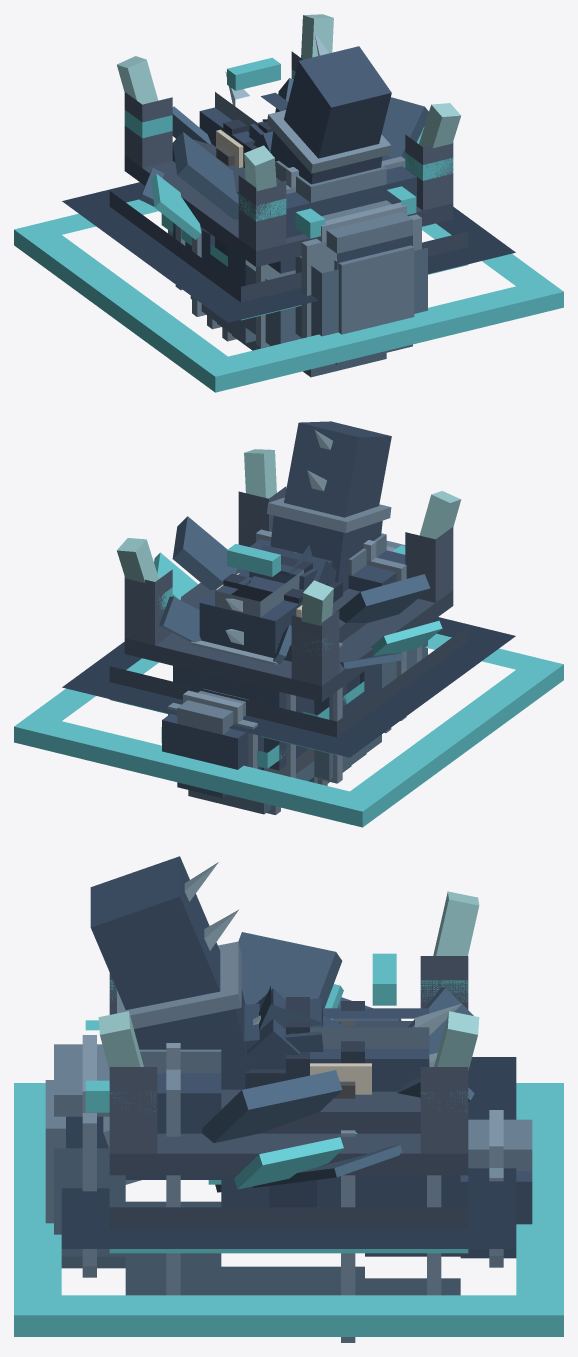
Rendered from Trainer10.glb.
3 renders of one model, top to bottom at view 1: azimuth 30°, elevation 25°; view 2: azimuth 150°, elevation 25°; view 3: azimuth 270°, elevation 25°, orthographic. The views are drawn at different scales.
Visible parts, largest first — view 1: Body, Stand_Glow, Stand, Wings, Head, Body_Glow, Wings_Glow; view 2: Stand, Body, Stand_Glow, Head, Wings, Body_Glow, Wings_Glow, T1, T2; view 3: Body, Stand, Stand_Glow, Wings, Head, Wings_Glow, Body_Glow, T1, T2, Fin.
Boxes of the visible parts, x1,y1,x2,y2 form: Body: (168,33,427,377); Stand_Glow: (14,14,563,392); Stand: (62,51,515,322); Wings: (139,97,428,233); Head: (172,71,293,167); Body_Glow: (161,57,416,266); Wings_Glow: (150,129,423,239); Stand: (62,486,515,757); Body: (162,421,427,814); Stand_Glow: (14,449,563,827); Head: (159,555,327,663); Wings: (172,516,430,668); Body_Glow: (161,544,405,768); Wings_Glow: (154,552,442,655); T1: (247,544,336,586); T2: (248,548,332,589); Body: (45,856,532,1342); Stand: (61,956,516,1248); Stand_Glow: (14,891,563,1336); Wings: (202,932,402,1192); Head: (103,987,474,1184); Wings_Glow: (234,984,343,1189); Body_Glow: (85,953,396,1112); T1: (247,988,299,1069); T2: (244,998,323,1051); Fin: (259,986,323,1030).
Size of the model in its own units: 9.2 by 8.36 by 9.2.
